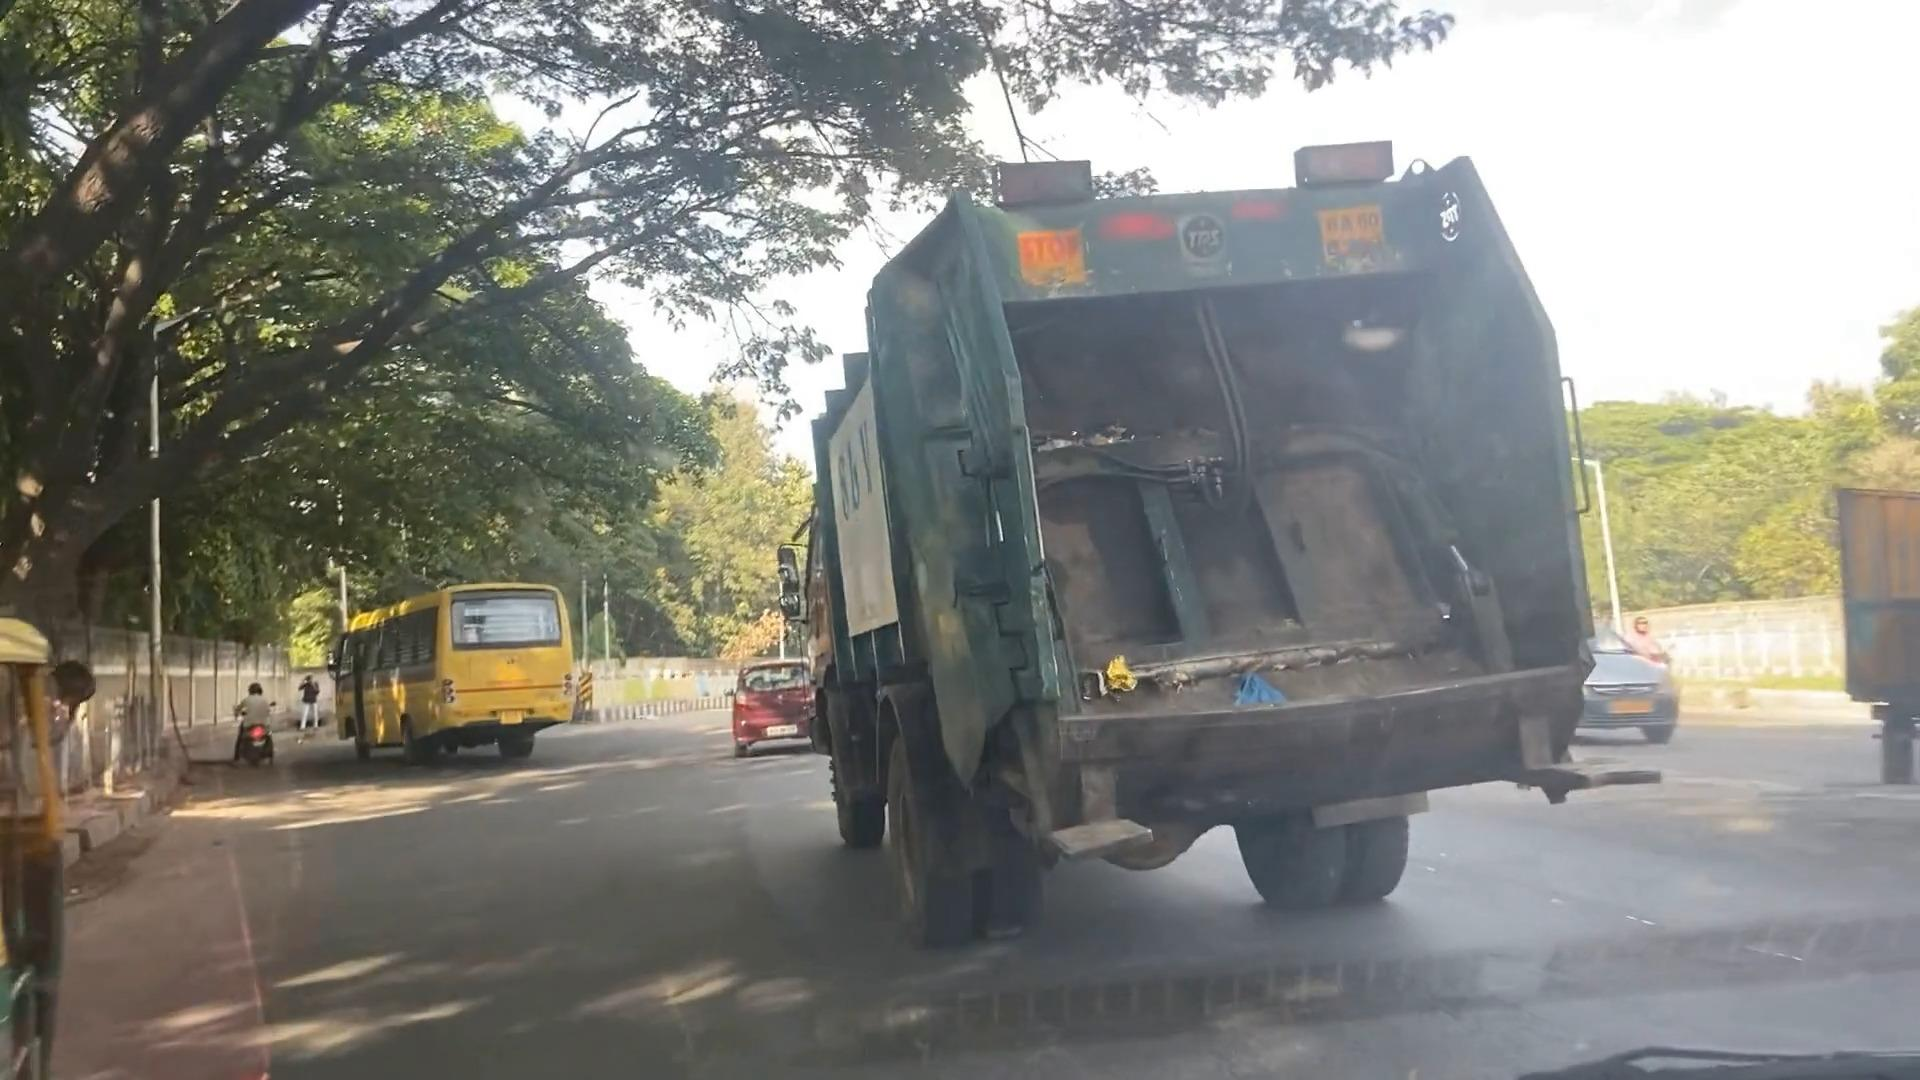HMV: (812, 144, 1575, 939), (336, 587, 574, 750)
RoadDamages: (868, 951, 1515, 1080)
